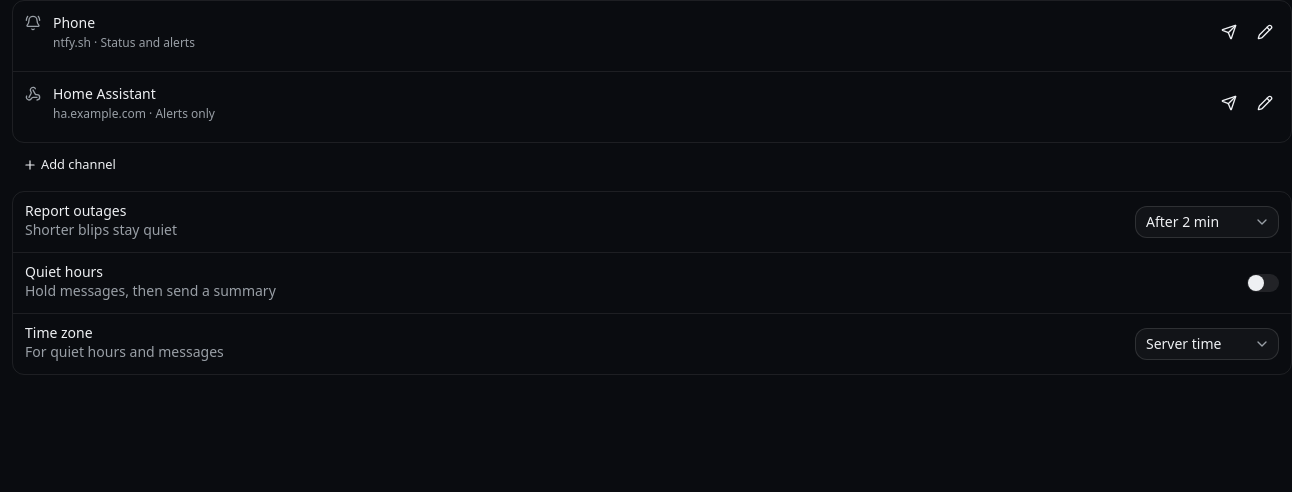
Test: NotificationSettings › tests saved channels from the list and adds them to the log
Click the button named "Send a test to Phone". click: (1229, 32)
box: [1215,18,1243,46]
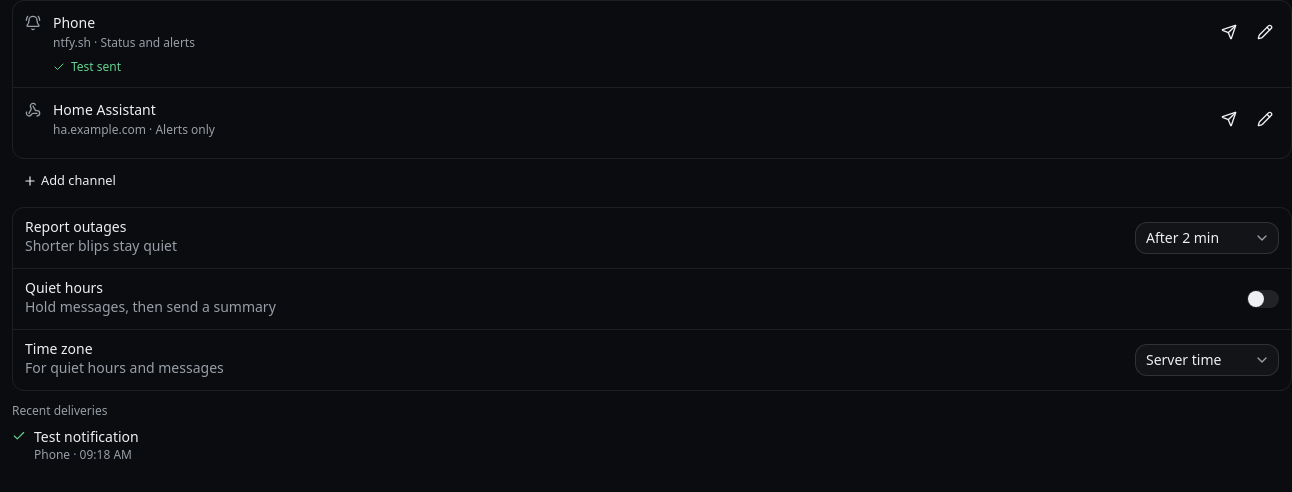
Now the text "Test sent" is shown, box [71,59,121,75]
Now the heading "Recent deliveries" is shown, box [12,402,107,419]
Now the text "Test notification" is shown, box [34,427,139,446]
Click the button named "Send a test to Home Assistant". click: (1229, 119)
box: [1215,105,1243,133]
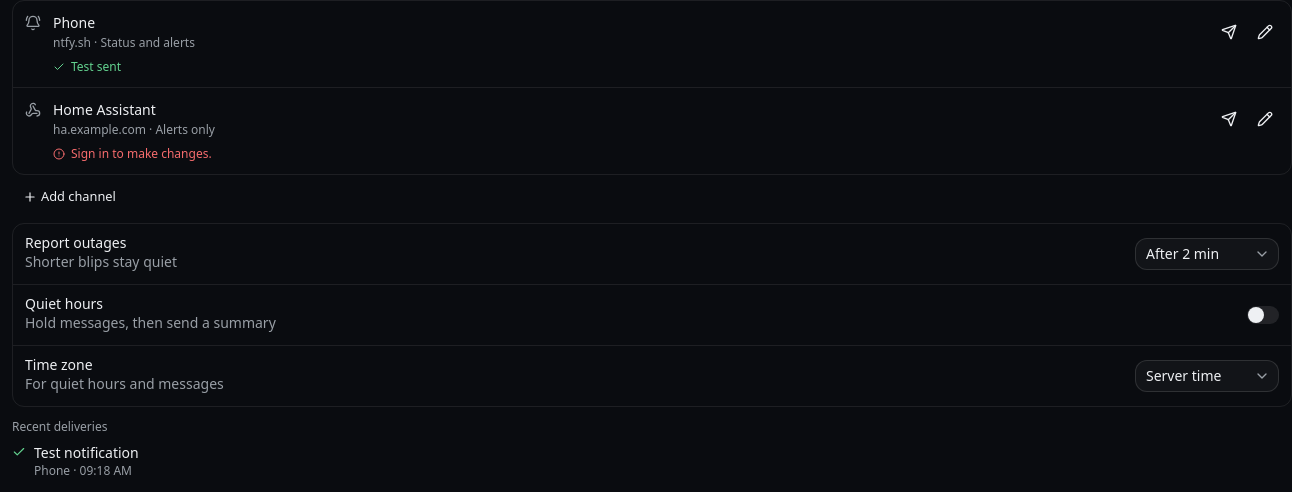
Expected: the text "ha.example.com · Alerts only" is shown, [52,120,215,138]
Now the text "Sign in to make changes." is shown, box [71,146,212,162]
